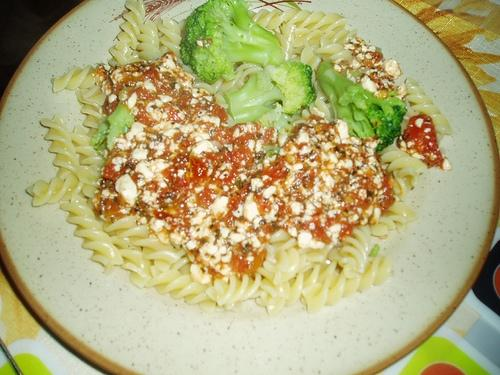broccoli: (179, 0, 286, 84), (317, 58, 407, 154), (225, 59, 316, 123), (106, 101, 134, 151)
